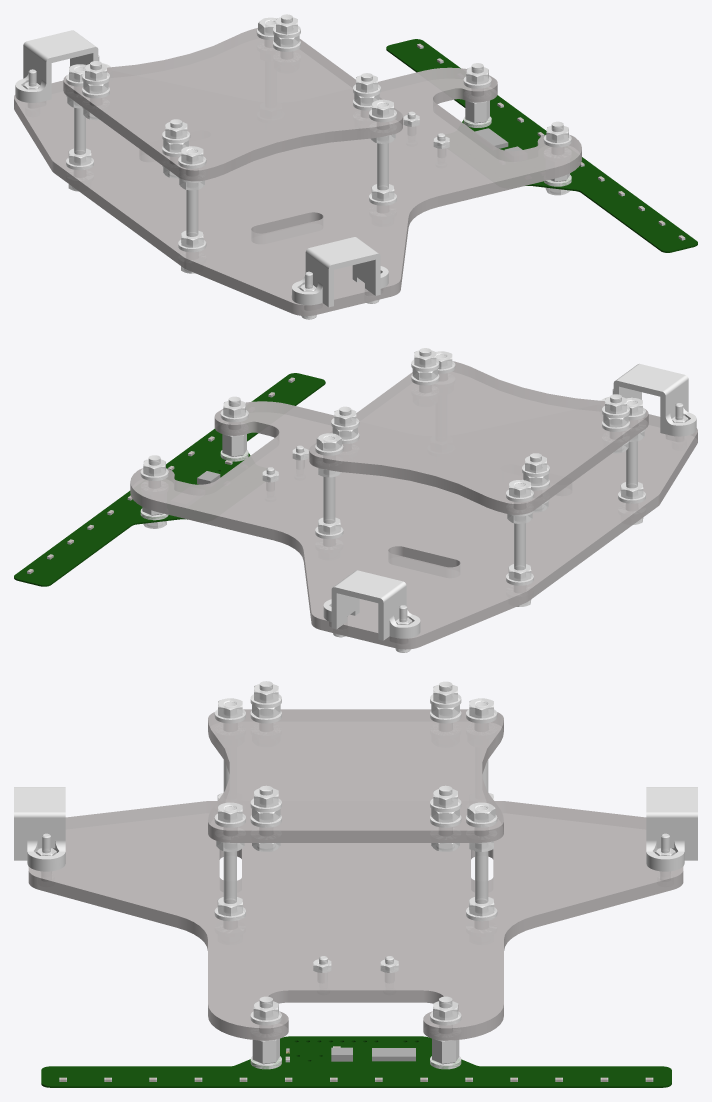
Rendered from seguidor-pro-chasis.glb.
3 views of the same model, one above another, from view 1: azimuth 30°, elevation 25°; view 2: azimuth 150°, elevation 25°; view 3: azimuth 270°, elevation 25° (orthographic). The views are drawn at different scales.
Parts seen in each view (by area): view 1: base__0, top__0, chasis, bracket__0 (×2), AS 1427 - M3 x 30(2)__0 (×3), stand-off__0; view 2: base__0, top__0, chasis, bracket__0 (×2), AS 1427 - M3 x 30(2)__0 (×3), stand-off__0; view 3: base__0, top__0, chasis, bracket__0 (×2), AS 1427 - M3 x 30(2)__0 (×2), stand-off__0 (×2).
Boxes of the visible parts, bbox=[...] form: base__0: bbox=[14, 67, 581, 315]; top__0: bbox=[63, 28, 402, 181]; chasis: bbox=[386, 39, 697, 252]; bracket__0 (×2): bbox=[15, 30, 388, 307]; AS 1427 - M3 x 30(2)__0 (×3): bbox=[68, 67, 388, 273]; stand-off__0: bbox=[465, 100, 489, 123]; base__0: bbox=[130, 401, 697, 649]; top__0: bbox=[309, 361, 648, 514]; chasis: bbox=[14, 373, 325, 586]; bracket__0 (×2): bbox=[323, 363, 696, 640]; AS 1427 - M3 x 30(2)__0 (×3): bbox=[323, 401, 643, 606]; stand-off__0: bbox=[222, 434, 246, 456]; base__0: bbox=[28, 801, 683, 1040]; top__0: bbox=[208, 709, 503, 842]; chasis: bbox=[41, 1036, 671, 1087]; bracket__0 (×2): bbox=[14, 787, 697, 871]; AS 1427 - M3 x 30(2)__0 (×2): bbox=[223, 806, 488, 913]; stand-off__0 (×2): bbox=[252, 1038, 459, 1064].
Size of the model in its own units: 0.1273 by 0.0446 by 0.1525.
